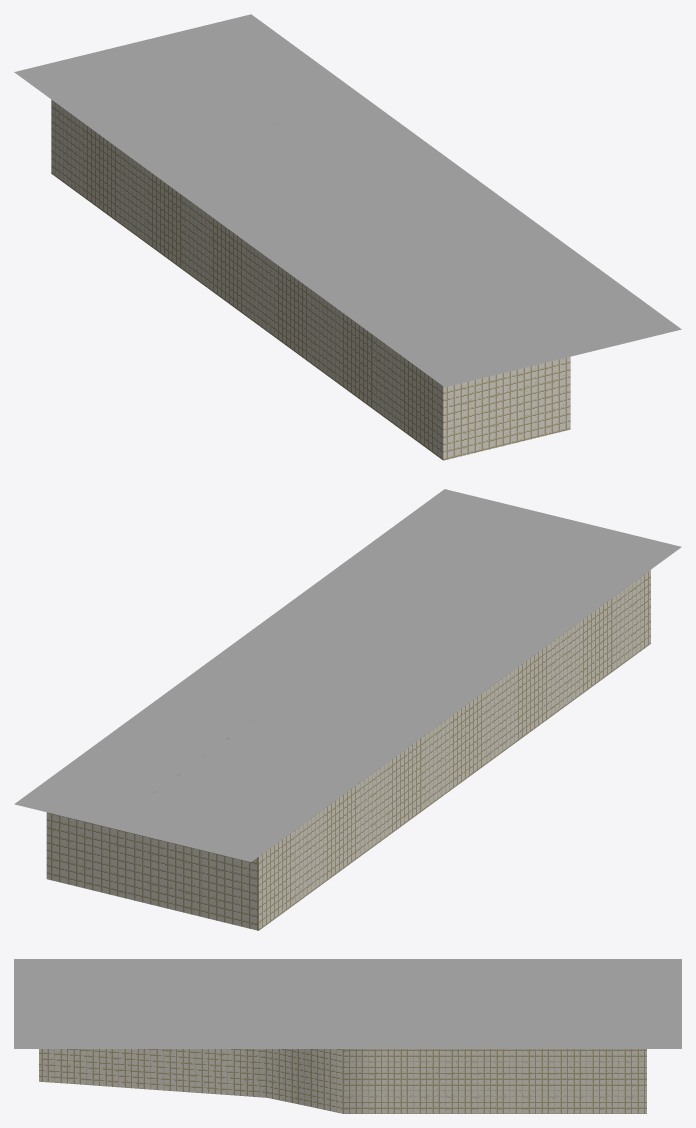
Rendered from r_Restroom 1.fbx.
3 renders of one model, top to bottom at view 1: azimuth 30°, elevation 25°; view 2: azimuth 150°, elevation 25°; view 3: azimuth 270°, elevation 25°, orthographic. The views are drawn at different scales.
Visible parts, largest first — view 1: pPlane2, Room_Base; view 2: pPlane2, Room_Base; view 3: pPlane2, Room_Base.
Boxes of the visible parts, box(x1,y1,x2,y2) form: pPlane2: box(14, 14, 681, 387); Room_Base: box(51, 100, 570, 460); pPlane2: box(14, 489, 681, 861); Room_Base: box(46, 570, 650, 930); pPlane2: box(14, 959, 681, 1048); Room_Base: box(39, 1049, 646, 1113).
Bounding box in the file's own units: 5.59 × 2 × 17.58.
